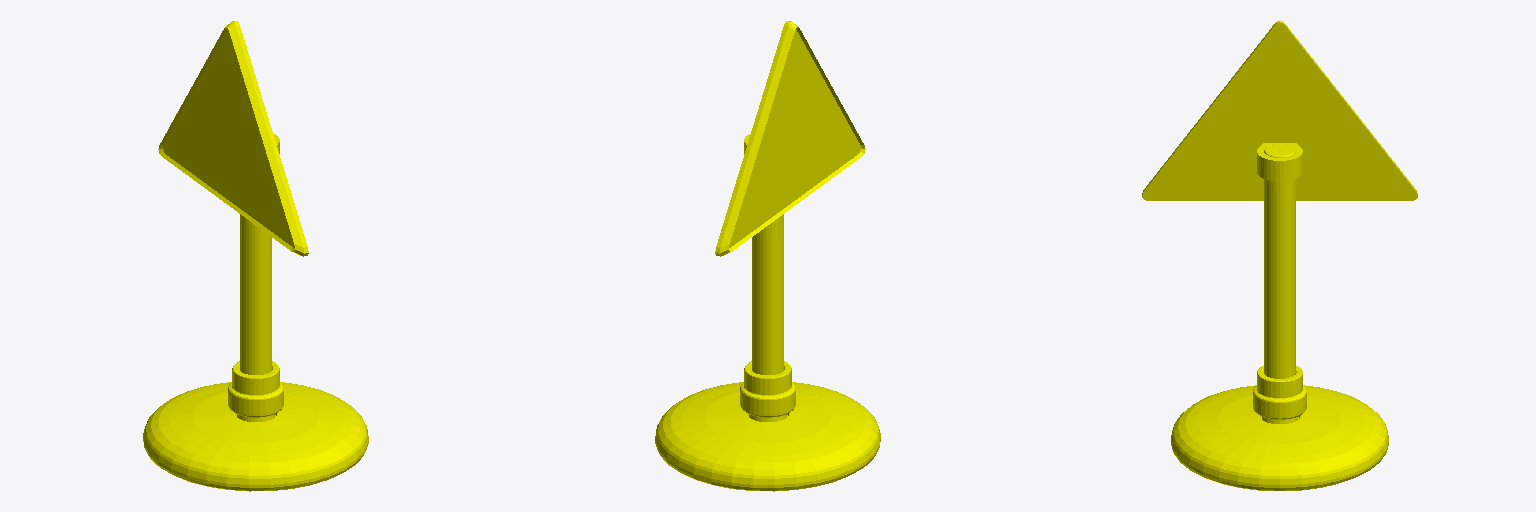
robot.urdf — sign:
<?xml version="1.0"?>
<robot name="sign">
  <link name="base">
   <contact>
      <lateral_friction value="1.0"/>
      <rolling_friction value="0.0"/>
      <contact_cfm value="0.0"/>
      <contact_erp value="1.0"/>
    </contact>
    <inertial>
      <origin rpy="0 0 0" xyz="0 0 0"/>
       <mass value="1.0"/>
       <inertia ixx="1" ixy="0" ixz="0" iyy="1" iyz="0" izz="1"/>
    </inertial>
    <visual>
      <geometry>
        <mesh filename="OBJ/sign.obj" scale="1 1 1"/>
      </geometry>
      <origin rpy="0 0 0" xyz="0 0 0" />
      <material name="yellow"/>
    </visual>
    <collision>
      <origin rpy="0 0 0" xyz="0 0 0"/>
      <geometry>
         <mesh filename="OBJ/sign.obj" scale="1 1 1"/>
      </geometry>
    </collision>
  </link>

<material name="red"><color rgba="0.99 0 0 1"/></material>
<material name="orange"><color rgba="1 0.5 0 1"/></material>
<material name="yellow"><color rgba="0.95 0.95 0 1"/></material>
<material name="green"><color rgba="0 0.99 0 1"/></material>
<material name="skyblue"><color rgba="0.53 0.81 0.92 1"/></material>
<material name="blue"><color rgba="0 0 0.99 1"/></material>
<material name="purple"><color rgba="0.95 0 0.95 1"/></material>



</robot>

--- Render facts (derived) ---
3 views of the same robot in one strip: view 1: azimuth 30°, elevation 25°; view 2: azimuth 150°, elevation 25°; view 3: azimuth 270°, elevation 25° (orthographic).
Robot: sign — 1 links, 0 joints (none); root link base; default pose: all joints at 0.
Visible links, largest first — view 1: base; view 2: base; view 3: base.
Boxes of the visible links, x1,y1,x2,y2 form: base: [143, 21, 368, 491]; base: [655, 21, 880, 491]; base: [1142, 21, 1417, 490].
Size in the robot's own frame: 0.0801 by 0.1011 by 0.1679 metres.
Meshes: 1 distinct files referenced, 1 mesh visuals loaded (1 OBJ).